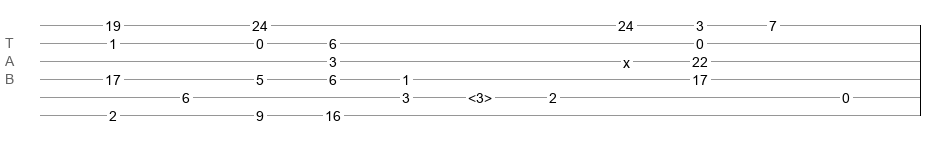0: (256, 36, 264, 46), (696, 36, 704, 46), (842, 90, 850, 100)
1: (109, 36, 117, 46), (402, 72, 410, 82)
16: (325, 108, 341, 118)
17: (105, 72, 121, 82), (692, 72, 708, 82)
19: (105, 18, 121, 28)
2: (109, 108, 117, 118), (549, 90, 557, 100)
22: (692, 54, 708, 64)
24: (252, 18, 268, 28), (618, 18, 634, 28)
3: (329, 54, 337, 64), (402, 90, 410, 100), (696, 18, 704, 28)
5: (256, 72, 264, 82)
6: (182, 90, 190, 100), (329, 36, 337, 46), (329, 72, 337, 82)
7: (769, 18, 777, 28)
9: (256, 108, 264, 118)
harmonic: (468, 90, 492, 100)
x: (623, 55, 630, 63)
